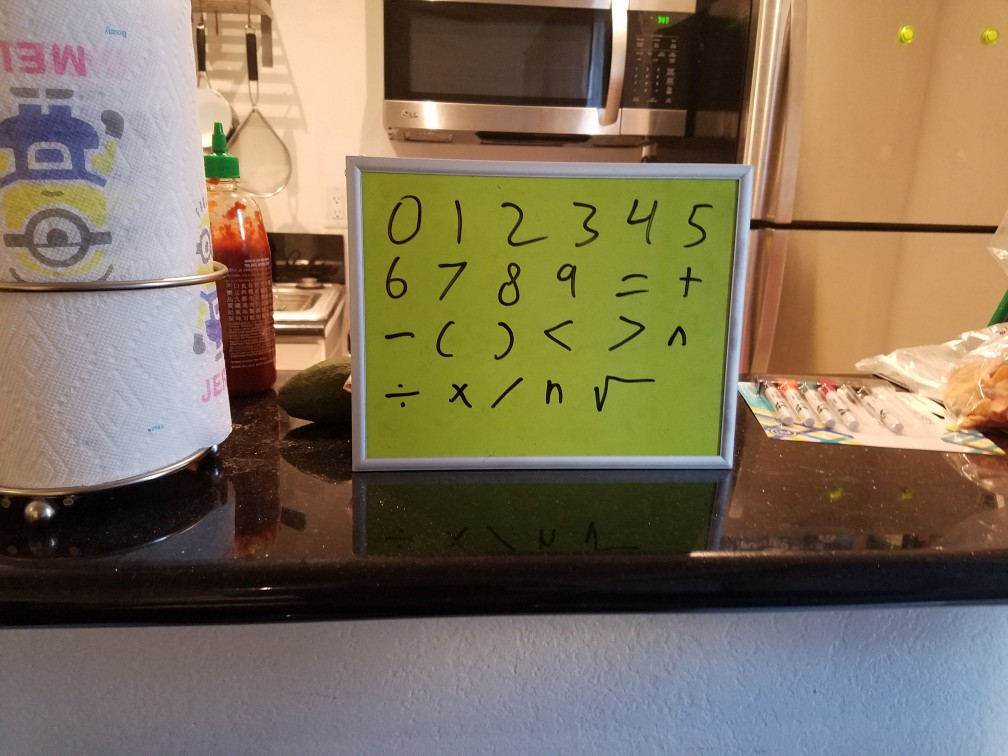(: (429, 316, 457, 369)
): (489, 317, 520, 364)
+: (675, 259, 707, 301)
-: (383, 323, 413, 346)
/: (487, 369, 527, 416)
0: (383, 191, 424, 254)
1: (446, 191, 473, 253)
2: (492, 192, 551, 256)
3: (564, 195, 605, 253)
4: (622, 188, 664, 256)
5: (675, 192, 712, 259)
6: (381, 251, 412, 306)
7: (432, 253, 468, 311)
8: (488, 257, 533, 320)
9: (553, 256, 583, 305)
<: (544, 315, 575, 358)
=: (609, 265, 654, 306)
>: (606, 307, 648, 358)
^: (662, 322, 694, 354)
div: (385, 373, 421, 415)
n: (540, 375, 568, 410)
sqrt: (589, 369, 653, 417)
x: (445, 376, 470, 416)
